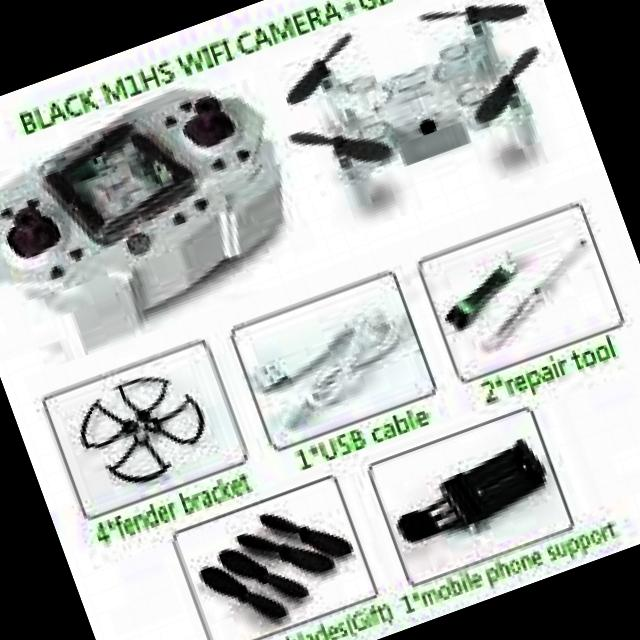drone: (266, 0, 579, 243)
